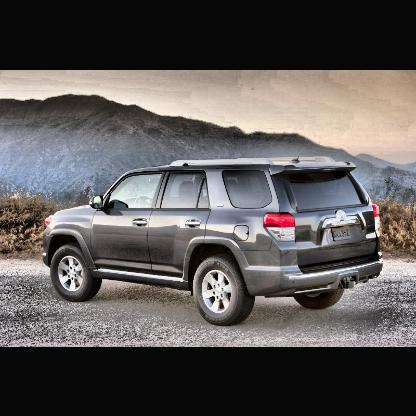Toyota 4Runner SUV 2012: (41, 155, 385, 327)
